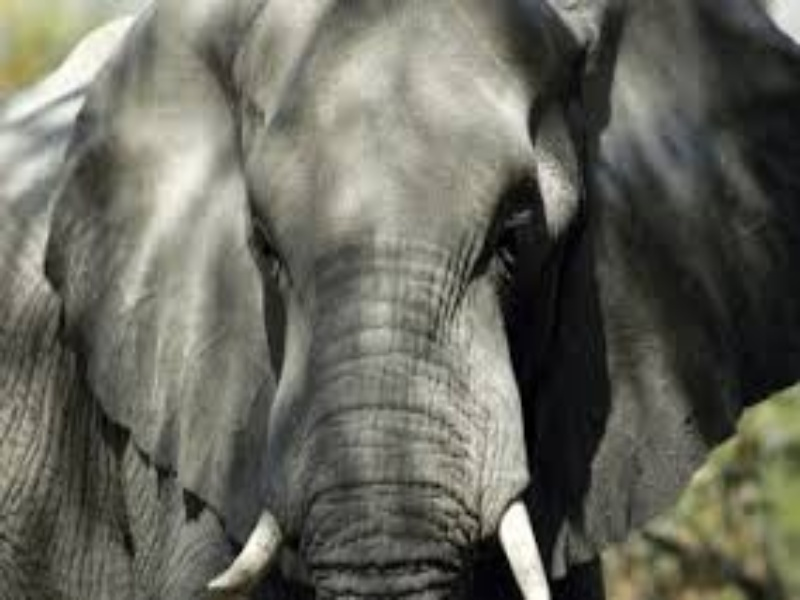elephant: (22, 19, 781, 593)
